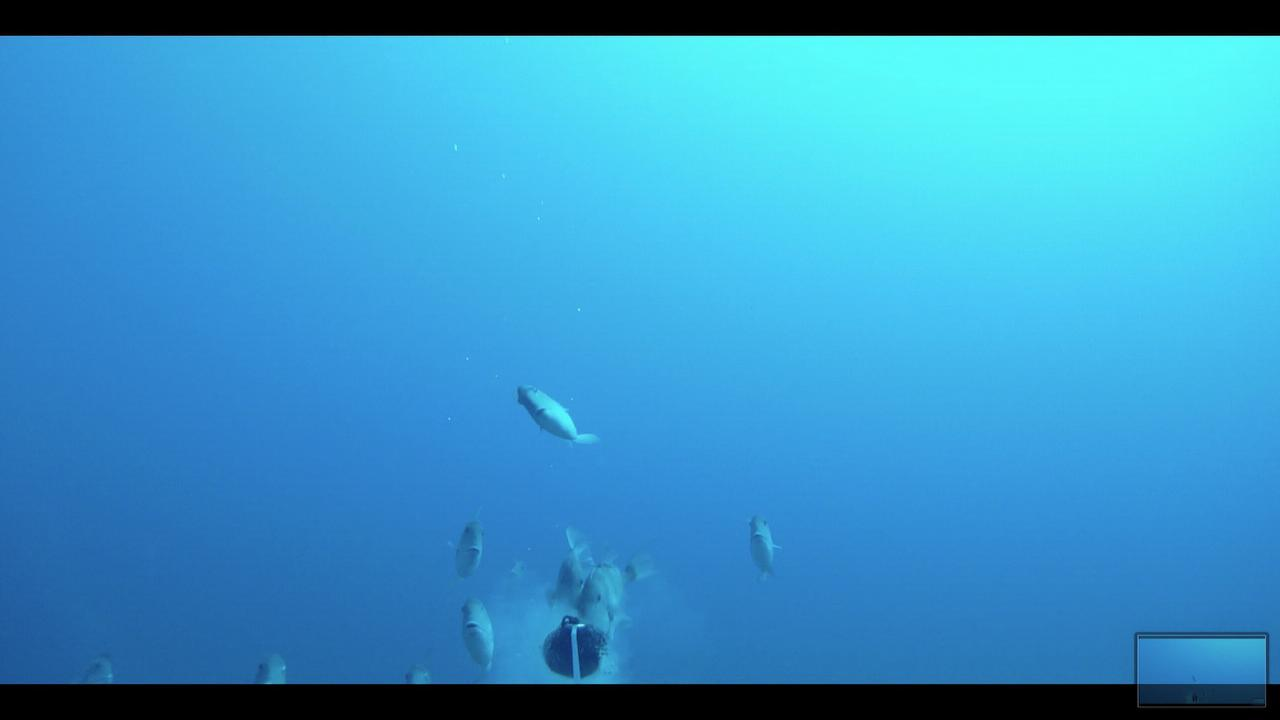balistes: (499, 375, 609, 451), (445, 588, 511, 676), (428, 511, 496, 580), (738, 507, 789, 580), (242, 641, 304, 681), (65, 646, 126, 682)
